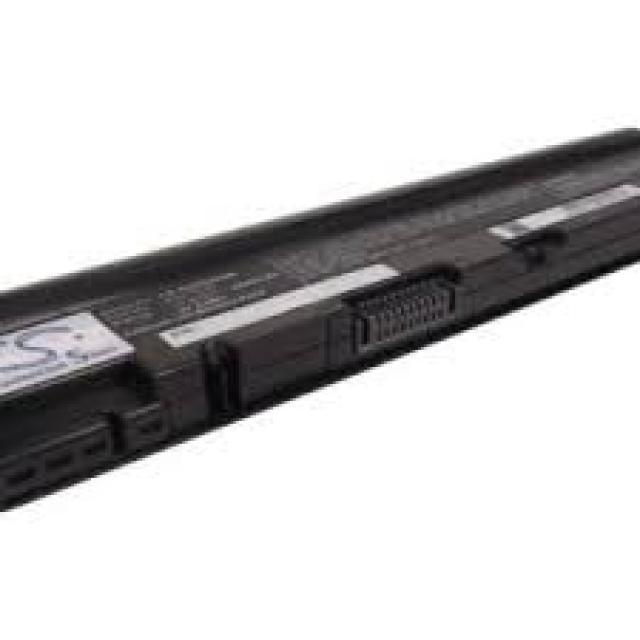battery: (3, 124, 640, 516)
